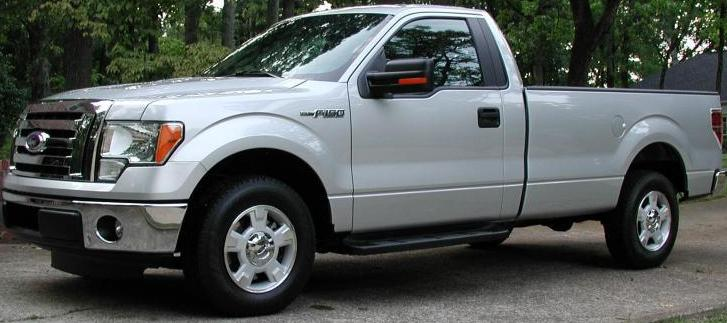front_view: (18, 105, 199, 265)
headlight: (106, 114, 196, 190)
side_glass: (355, 11, 506, 97)
